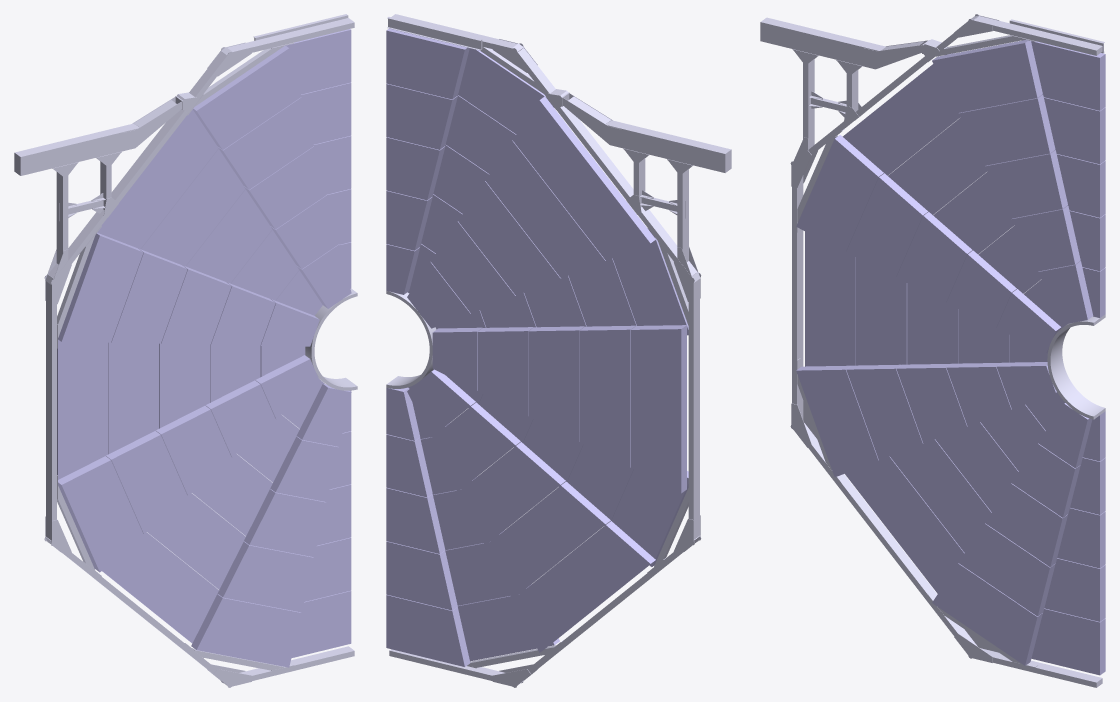
Rendered from Muon-Big-Wheel-MDT-SideC-cut2.glb.
The picture shows the model from 3 angles, left to right: view 1: azimuth 30°, elevation 25°; view 2: azimuth 150°, elevation 25°; view 3: azimuth 330°, elevation 25°; orthographic projection.
Visible parts, largest first — view 1: null; view 2: null; view 3: null.
Part boxes in pixels (x1,y1,x2,y2): null: [14, 14, 357, 687]; null: [386, 14, 731, 687]; null: [760, 14, 1105, 687].
Bounding box in the file's own units: 12.86 × 23.42 × 0.78.
